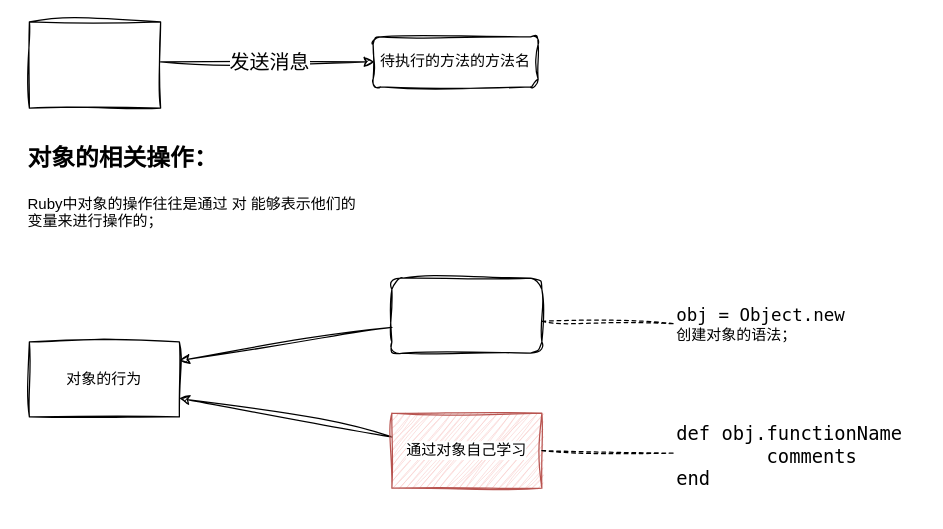
The diagram is 943 pixels wide and 529 high, and some of its shapes have lost their labels. The centre of each missing label's shape, as x and y in pixels:
对象: (x=94, y=64)
对象所在的类: (x=466, y=315)
